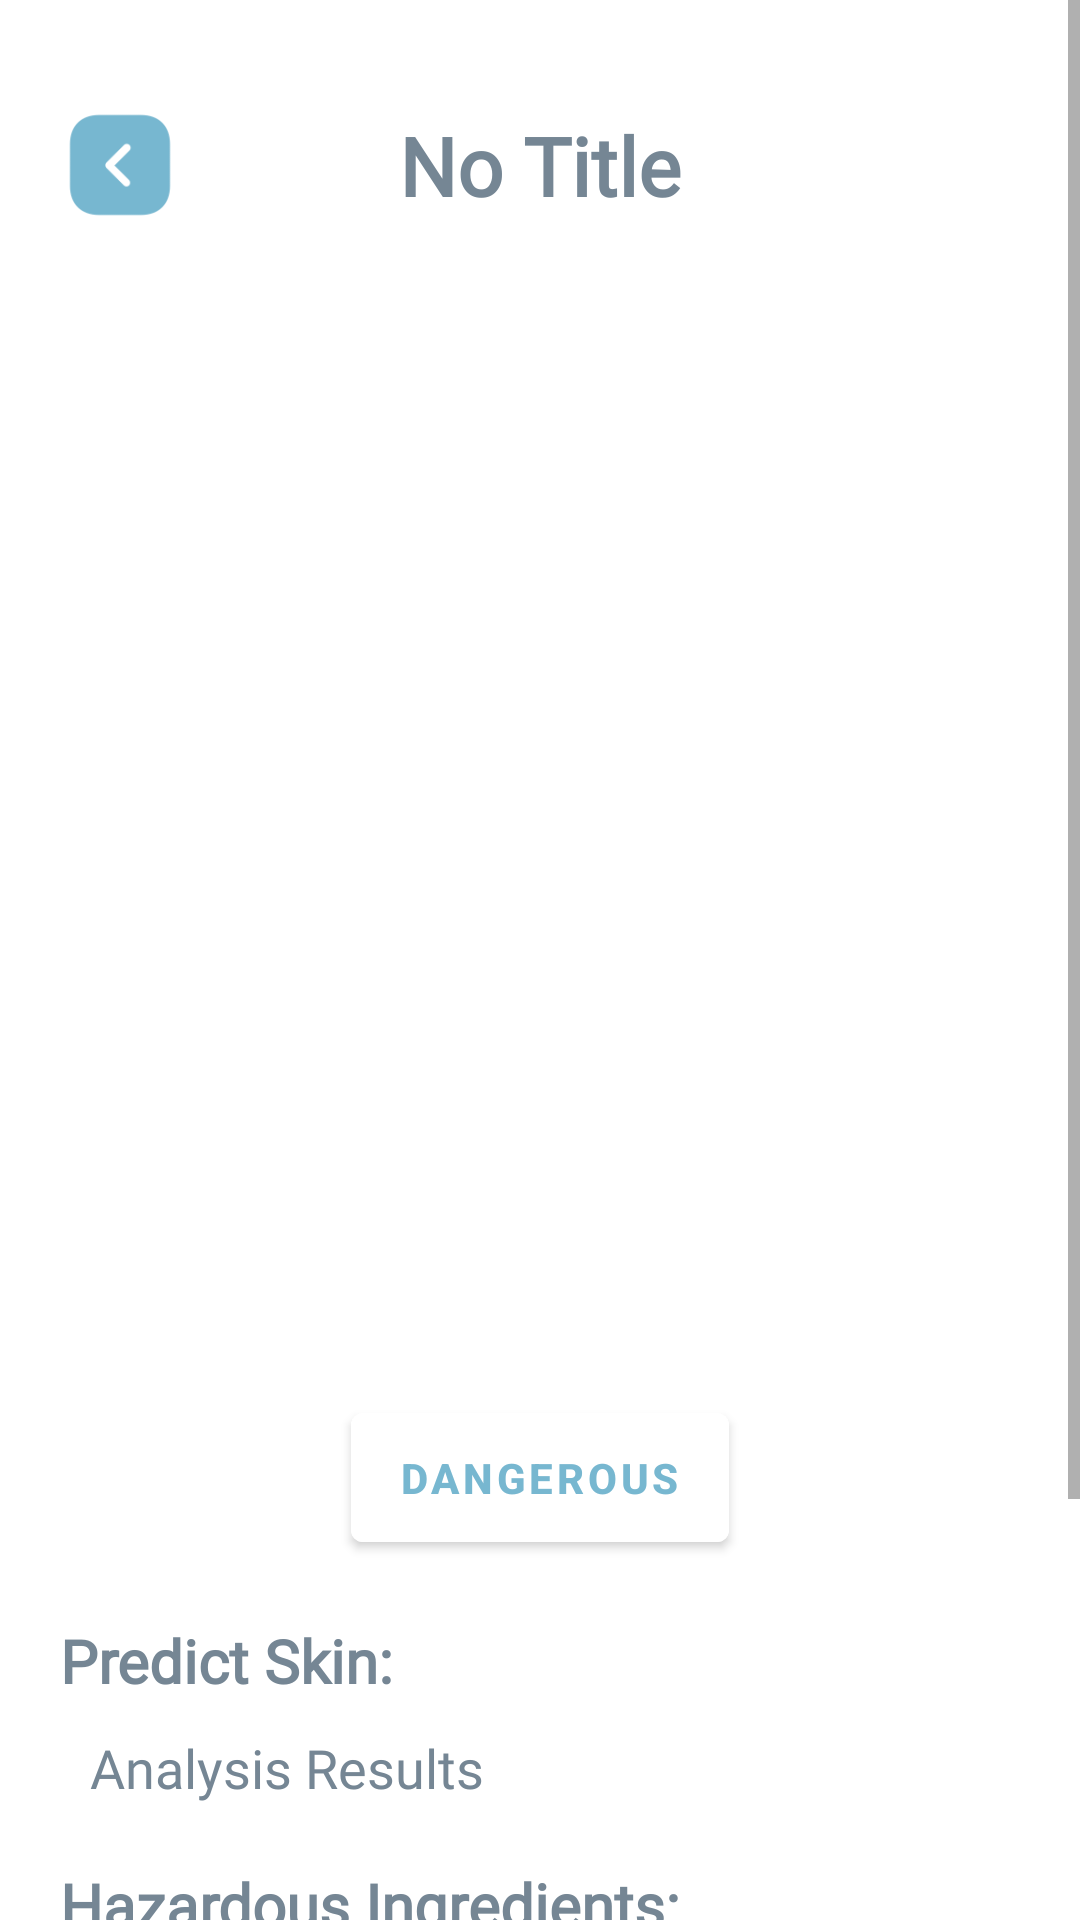

Named icons in this screenshot (1080×1920) and their centers, point (x, y):
Back Button: point (120, 165)
